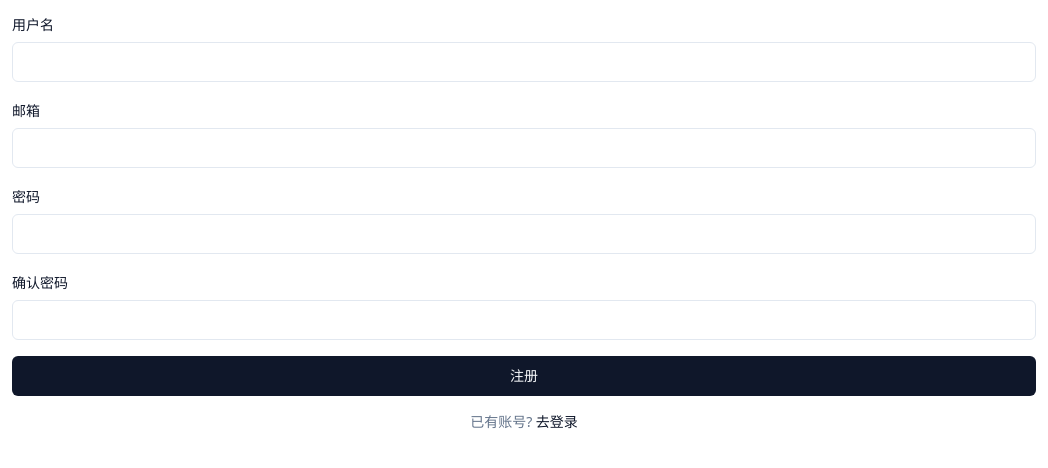
RegisterForm › rejects mismatched passwords client-side
This screenshot has width=1048, height=468.
Type "alice" into the field labelled "用户名" at (524, 62), box [12,42,1036,82]
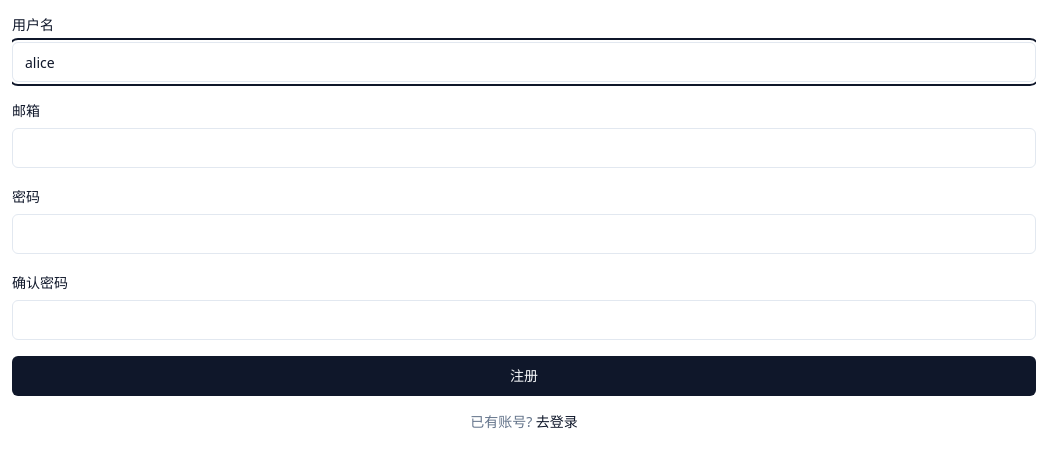
Type "alice@x.com" into the field labelled "邮箱" at (524, 148), box [12,128,1036,168]
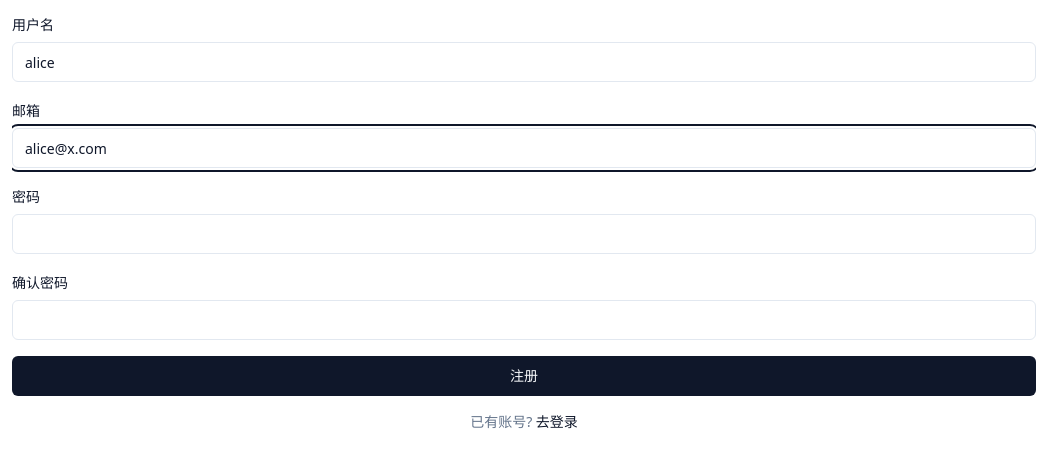
Type "Secret123" into the password field labelled "密码" at (524, 234), box [12,214,1036,254]
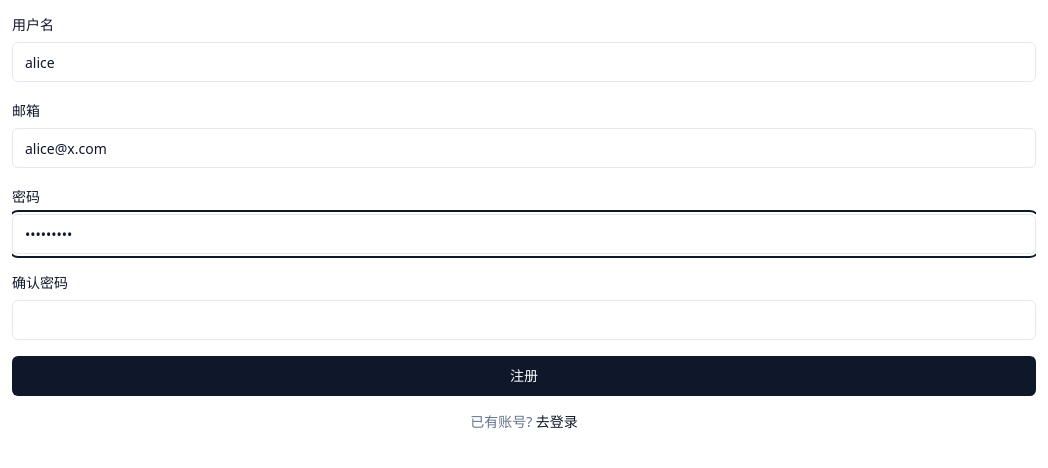
Type "Different1" into the password field labelled "确认密码" at (524, 320), box [12,300,1036,340]
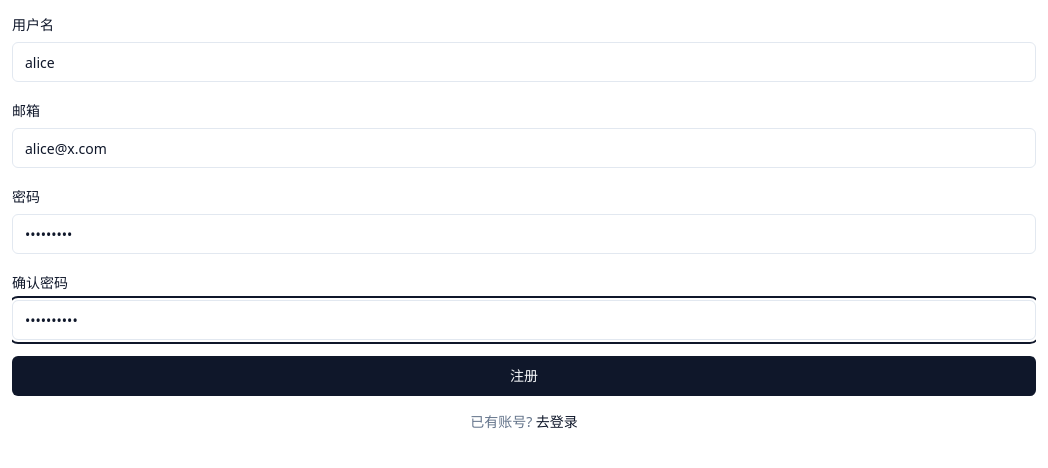
Click the button "注册" at (524, 376), box [12,356,1036,396]
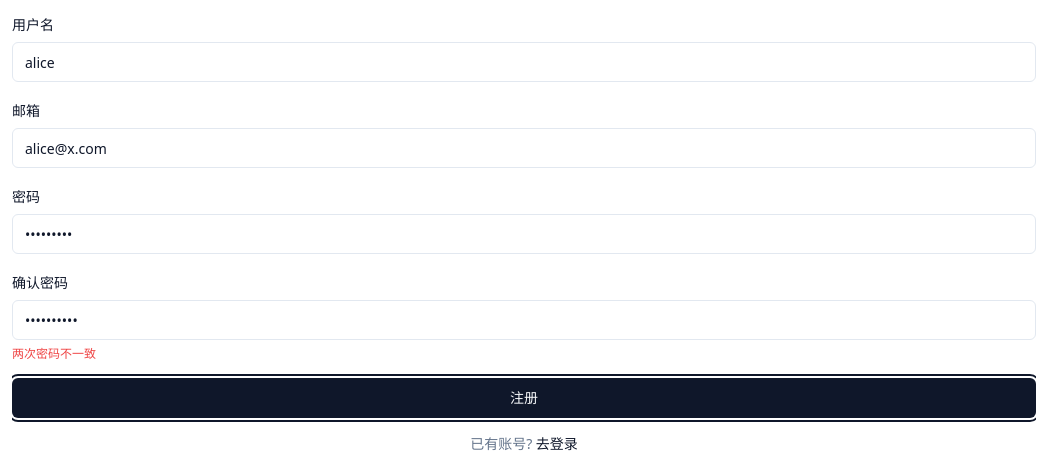
Expected: the text "两次密码不一致" is shown, [12,345,96,362]
